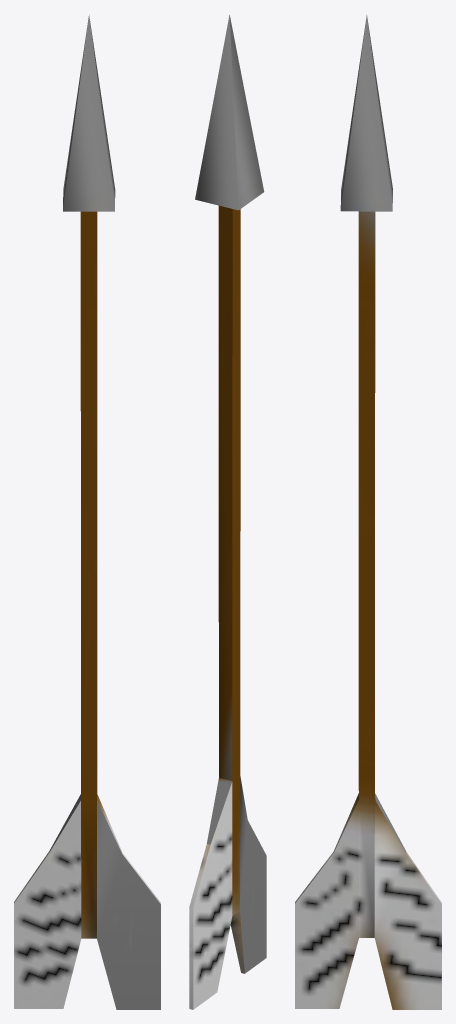
Rendered from arrow.FBX.
3 renders of one model, left to right at view 1: azimuth 90°, elevation 25°; view 2: azimuth 150°, elevation 25°; view 3: azimuth 270°, elevation 25°, orthographic. The views are drawn at different scales.
Parts seen in each view (by area): view 1: Box001; view 2: Box001; view 3: Box001.
Boxes of the visible parts, <box> form: Box001: <box>14,14,160,1009</box>; Box001: <box>189,15,266,1009</box>; Box001: <box>295,14,441,1009</box>.
Size of the model in its own units: 0.6758 by 14.15 by 1.89.
